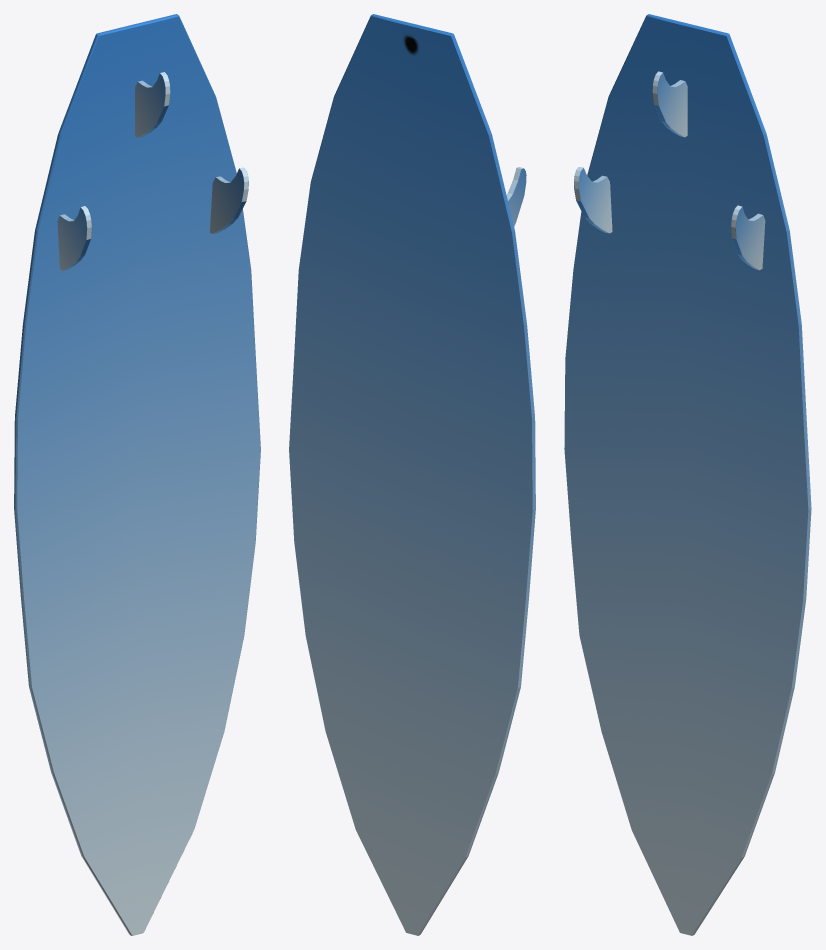
The model's file is surfboard.fbx.
3 views of the same model, side by side, from view 1: azimuth 30°, elevation 25°; view 2: azimuth 150°, elevation 25°; view 3: azimuth 330°, elevation 25° (orthographic).
Parts seen in each view (by area): view 1: surfingBoard; view 2: surfingBoard; view 3: surfingBoard.
Part boxes in pixels (left/top/right/bottom): surfingBoard: left=14, top=14, right=260, bottom=935; surfingBoard: left=289, top=14, right=535, bottom=935; surfingBoard: left=564, top=14, right=811, bottom=935.
Bounding box in the file's own units: 1.36 × 4.8 × 0.3174.
